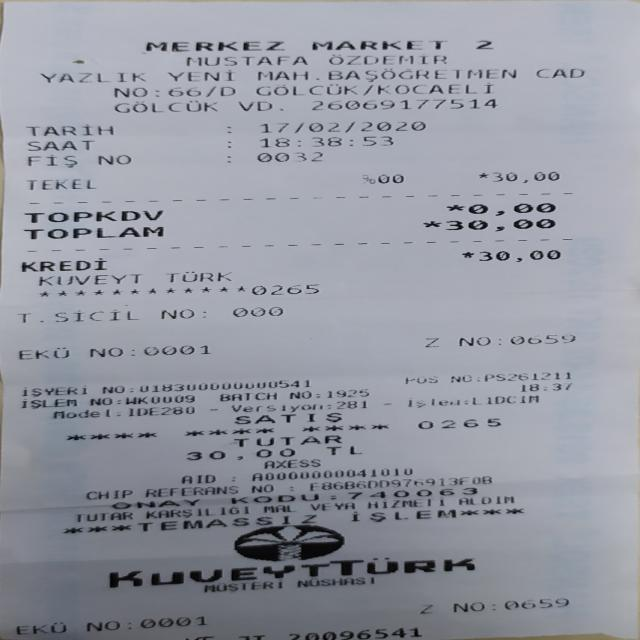text: (101, 558, 479, 587), (140, 514, 322, 531), (312, 474, 491, 491), (325, 67, 516, 81), (309, 96, 496, 110), (138, 378, 312, 392), (248, 467, 412, 480), (259, 120, 425, 132), (144, 39, 282, 52), (309, 38, 441, 51), (185, 53, 305, 67), (372, 81, 492, 95), (326, 52, 445, 66), (403, 394, 540, 406), (346, 486, 481, 498), (36, 272, 145, 286), (348, 508, 455, 522), (39, 70, 143, 84), (254, 82, 358, 96), (112, 99, 216, 113), (22, 228, 164, 238), (23, 211, 163, 221), (52, 307, 139, 323), (258, 136, 393, 146), (146, 506, 250, 518), (444, 219, 556, 230), (25, 122, 112, 136), (287, 629, 421, 638), (232, 436, 347, 446), (466, 202, 554, 215), (19, 258, 107, 271), (166, 68, 232, 84), (477, 249, 559, 261), (232, 414, 341, 423), (167, 268, 231, 283), (182, 450, 296, 458), (228, 402, 318, 412), (140, 343, 215, 355), (248, 282, 317, 295), (26, 138, 94, 151), (414, 418, 502, 428), (106, 499, 203, 508), (230, 303, 284, 319), (492, 170, 558, 183), (136, 616, 207, 628), (26, 178, 95, 190), (195, 581, 286, 590), (365, 497, 446, 507), (508, 333, 575, 345), (141, 487, 240, 495), (293, 576, 370, 586), (534, 65, 582, 81), (15, 346, 69, 360), (226, 494, 320, 502), (255, 151, 323, 162), (256, 67, 302, 83), (25, 154, 77, 168), (482, 372, 570, 380), (10, 622, 68, 634), (20, 385, 89, 395), (157, 304, 195, 322), (48, 408, 112, 418), (127, 394, 197, 403), (216, 391, 276, 401), (18, 398, 76, 408), (72, 512, 134, 521), (501, 599, 570, 607), (94, 152, 130, 167), (80, 489, 134, 499), (166, 83, 201, 98), (87, 344, 123, 358), (454, 496, 514, 504), (236, 98, 270, 112), (84, 620, 122, 632), (164, 404, 200, 416), (325, 444, 361, 456), (335, 398, 368, 411), (177, 473, 216, 484), (308, 502, 355, 511), (455, 335, 490, 347), (325, 388, 369, 397), (518, 383, 572, 390), (448, 601, 485, 611), (377, 171, 403, 185), (98, 383, 128, 395), (402, 374, 438, 384), (261, 460, 320, 466), (260, 503, 297, 512), (285, 388, 312, 399), (248, 482, 273, 493), (420, 219, 441, 232), (86, 395, 110, 406), (444, 202, 463, 215), (447, 373, 471, 383), (422, 336, 440, 348), (475, 37, 490, 51), (416, 602, 434, 613), (362, 81, 375, 96), (362, 171, 374, 186), (198, 304, 208, 321), (206, 83, 217, 98), (16, 313, 34, 322), (460, 249, 472, 262), (477, 170, 488, 184), (122, 616, 132, 631), (206, 403, 218, 415), (221, 86, 235, 96), (380, 397, 390, 410), (311, 67, 319, 82), (324, 399, 334, 411), (125, 382, 134, 394), (111, 406, 120, 418), (227, 471, 236, 483), (487, 598, 496, 610), (115, 395, 124, 406), (127, 344, 134, 358), (224, 152, 232, 164), (314, 388, 322, 400), (287, 481, 294, 493), (153, 83, 158, 99), (277, 97, 282, 113), (495, 334, 501, 346), (224, 140, 233, 148), (327, 492, 335, 500), (473, 372, 478, 383), (226, 125, 232, 133)
